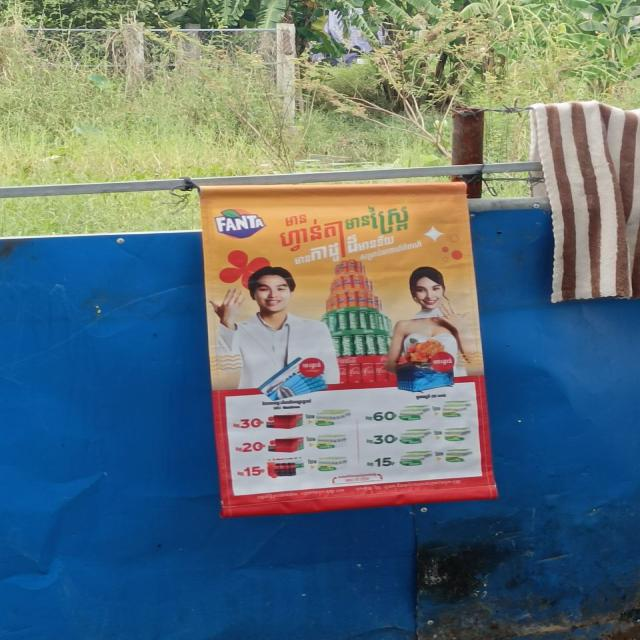Yolov11kh: (289, 226, 401, 271), (271, 212, 347, 257), (340, 198, 417, 234), (357, 237, 423, 265), (281, 211, 311, 228)
